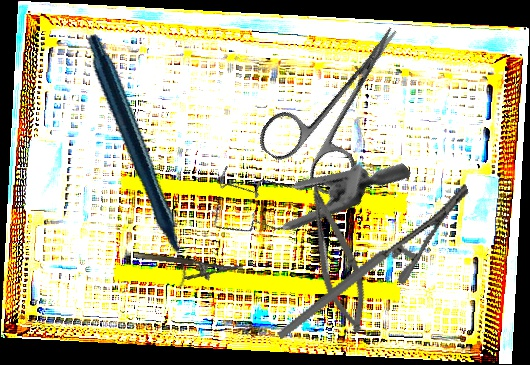Handpiece: (30, 32, 241, 292)
Iris Scissors: (252, 1, 438, 203)
Micro Scissor: (289, 178, 381, 339)
Needle Holder: (251, 183, 495, 340), (131, 250, 244, 288)
Speculum: (190, 77, 413, 295)
